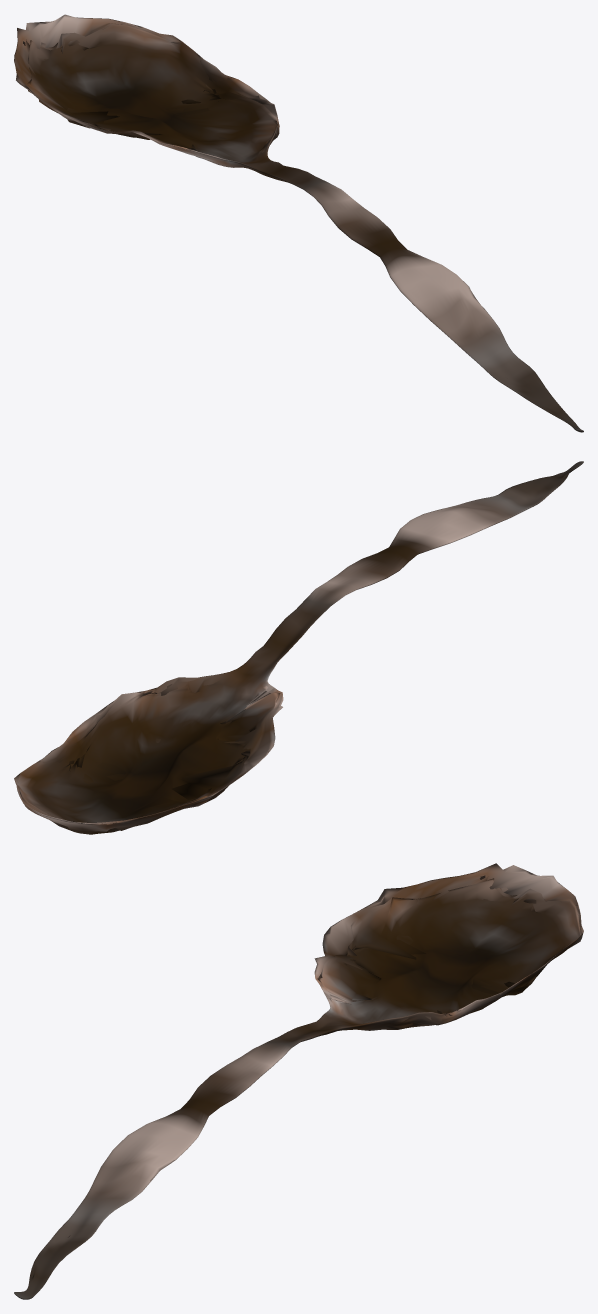
Rendered from burntspoon.fbx.
3 renders of one model, top to bottom at view 1: azimuth 30°, elevation 25°; view 2: azimuth 150°, elevation 25°; view 3: azimuth 330°, elevation 25°, orthographic.
Visible parts, largest first — view 1: Plane; view 2: Plane; view 3: Plane.
Boxes of the visible parts, <box> form: Plane: <box>14,14,583,432</box>; Plane: <box>14,461,583,834</box>; Plane: <box>14,863,583,1299</box>.
Size of the model in its own units: 236 by 81.75 by 1175.
